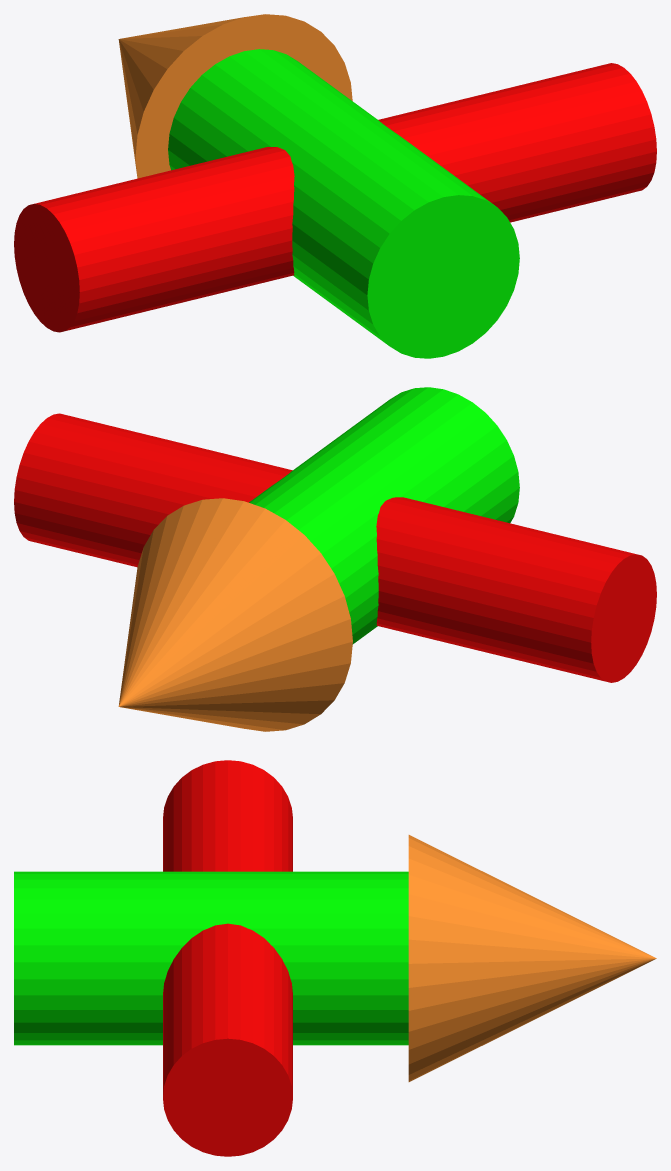
The model's file is player.gltf.
3 renders of one model, top to bottom at view 1: azimuth 30°, elevation 25°; view 2: azimuth 150°, elevation 25°; view 3: azimuth 270°, elevation 25°, orthographic.
Visible parts, largest first — view 1: Cylinder.001, Cylinder, Cone; view 2: Cylinder.001, Cone, Cylinder; view 3: Cylinder, Cylinder.001, Cone.
Boxes of the visible parts, x1,y1,x2,y2 form: Cylinder.001: (14,63,656,332); Cylinder: (168,49,519,358); Cone: (118,14,352,178); Cylinder.001: (14,413,656,682); Cone: (118,498,352,731); Cylinder: (249,387,519,644); Cylinder: (14,871,408,1045); Cylinder.001: (163,760,292,1156); Cone: (408,835,656,1081).
Bounding box in the file's own units: 7.57 × 2.85 × 7.38.
